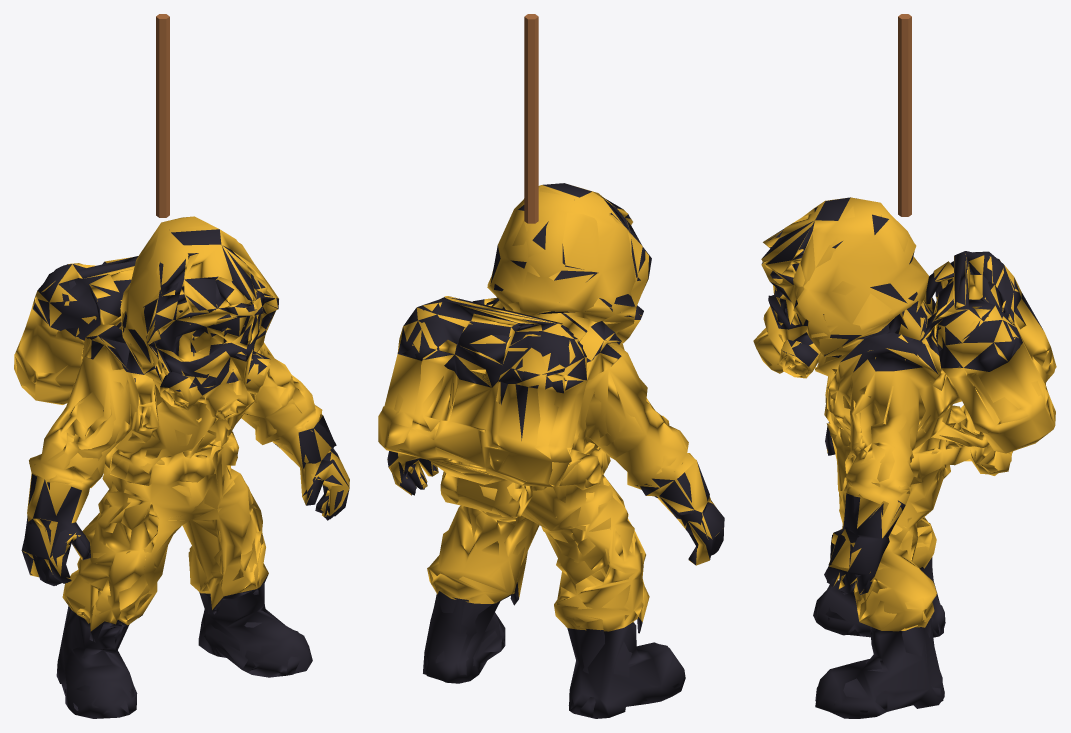
File: prop.l10-warning-effigy.glb
The picture shows the model from 3 angles, left to right: view 1: azimuth 30°, elevation 25°; view 2: azimuth 150°, elevation 25°; view 3: azimuth 270°, elevation 25°; orthographic projection. The views are drawn at different scales.
Parts seen in each view (by area): view 1: swing; view 2: swing; view 3: swing.
Boxes of the visible parts, bbox=[...] form: swing: bbox=[14, 14, 349, 718]; swing: bbox=[378, 14, 724, 718]; swing: bbox=[753, 14, 1056, 718].
Size of the model in its own units: 1.3 by 2.55 by 1.08.
